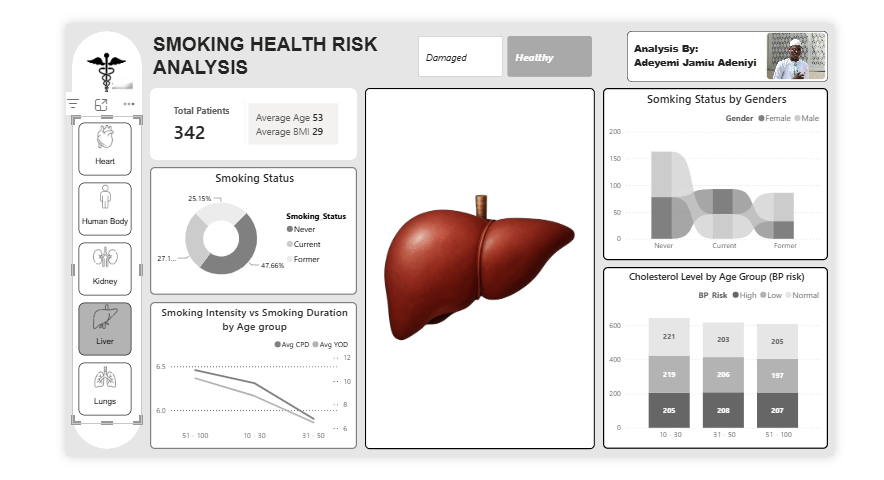

What the dashboard file says about the page in this screenshot:
{"tool":"powerbi","page":{"name":"Page 1","canvas":[1280,720],"ordinal":0},"visuals":[{"type":"shape","box":[10,11.7,116.7,696.7],"z":0},{"type":"shape","box":[140,106.7,345,120],"z":1000},{"type":"advancedSlicerVisual","fields":{"Values":["condition.Organ_Condition"]},"box":[581.7,15,300,78.3],"z":2000},{"type":"image","box":[498.3,106.7,383.3,601.7],"z":3000},{"type":"ChicletSlicer1448559807354","fields":{"Category":["Organs.Organ"],"Image":["Organs.Icon_URL"]},"box":[10.1,154.1,116.6,512.6],"z":4000},{"type":"cardVisual","fields":{"Data":["Count(health_dataset.Patient_ID)"]},"box":[150,110,326.7,113.3],"z":5000},{"type":"donutChart","title":"Smoking Status","fields":{"Category":["health_dataset.Smoking_Status"],"Y":["CountNonNull(health_dataset.Smoking_Status)"]},"box":[140,238.3,345,213.3],"z":6000},{"type":"lineChart","title":"Smoking Intensity vs Smoking Duration by Age group","fields":{"Category":["health_dataset.Age groups"],"Y":["Avg(health_dataset.Cigarettes_Per_Day)"],"Y2":["Avg(health_dataset.Years_of_Smoking)"]},"box":[140,463.3,345,245],"z":7000},{"type":"ribbonChart","title":"Somking Status by Genders","fields":{"Category":["health_dataset.Smoking_Status"],"Series":["health_dataset.Gender"],"Y":["CountNonNull(health_dataset.Gender)"]},"box":[895,106.7,375,286.7],"z":8000},{"type":"columnChart","title":"Cholesterol Level by Age Group (BP risk)","fields":{"Series":["health_dataset.BP_Risk"],"Category":["health_dataset.Age groups"],"Y":["Avg(health_dataset.Cholesterol_Level)"]},"box":[895,405,375,303.3],"z":9000},{"type":"image","box":[23.3,38.3,88.3,93.3],"z":10000},{"type":"textbox","box":[140,11.7,403.3,85],"z":11000},{"type":"shape","box":[935,11.7,335,85],"z":11500},{"type":"image","box":[1166,14,100,80],"z":12000},{"type":"textbox","box":[942,23.3,218.3,61.7],"z":14000}]}

Visuals, with their boxes on the page's 1280x720 design canvas (x1, y1, x2, y2). These are canvas units, not pixel positions in the 884x480 screenshot, which may show the page scaled, cropped or inside an application window:
shape: pyautogui.locateOnScreen(10, 12, 127, 708)
shape: pyautogui.locateOnScreen(140, 107, 485, 227)
advancedSlicerVisual - condition.Organ_Condition: pyautogui.locateOnScreen(582, 15, 882, 93)
image: pyautogui.locateOnScreen(498, 107, 882, 708)
ChicletSlicer1448559807354 - Organs.Organ x Organs.Icon_URL: pyautogui.locateOnScreen(10, 154, 127, 667)
cardVisual - Count(health_dataset.Patient_ID): pyautogui.locateOnScreen(150, 110, 477, 223)
"Smoking Status" donutChart: pyautogui.locateOnScreen(140, 238, 485, 452)
"Smoking Intensity vs Smoking Duration by Age group" lineChart: pyautogui.locateOnScreen(140, 463, 485, 708)
"Somking Status by Genders" ribbonChart: pyautogui.locateOnScreen(895, 107, 1270, 393)
"Cholesterol Level by Age Group (BP risk)" columnChart: pyautogui.locateOnScreen(895, 405, 1270, 708)
image: pyautogui.locateOnScreen(23, 38, 112, 132)
textbox: pyautogui.locateOnScreen(140, 12, 543, 97)
shape: pyautogui.locateOnScreen(935, 12, 1270, 97)
image: pyautogui.locateOnScreen(1166, 14, 1266, 94)
textbox: pyautogui.locateOnScreen(942, 23, 1160, 85)
